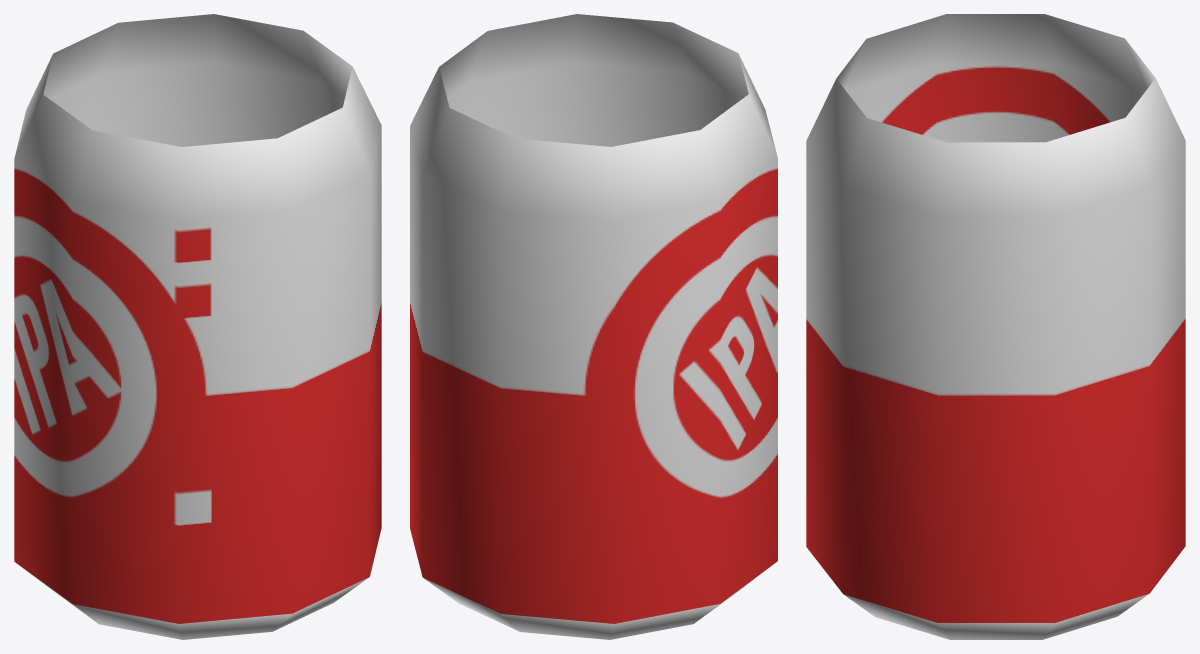
File: Beer_Can_03.fbx
3 views of the same model, side by side, from view 1: azimuth 30°, elevation 25°; view 2: azimuth 150°, elevation 25°; view 3: azimuth 270°, elevation 25° (orthographic).
Parts seen in each view (by area): view 1: Beer_Can_03; view 2: Beer_Can_03; view 3: Beer_Can_03.
Part boxes in pixels (x1,y1,x2,y2): Beer_Can_03: (14,14,381,639); Beer_Can_03: (410,14,777,639); Beer_Can_03: (806,14,1185,639).
Bounding box in the file's own units: 34.14 × 52.33 × 35.85.
